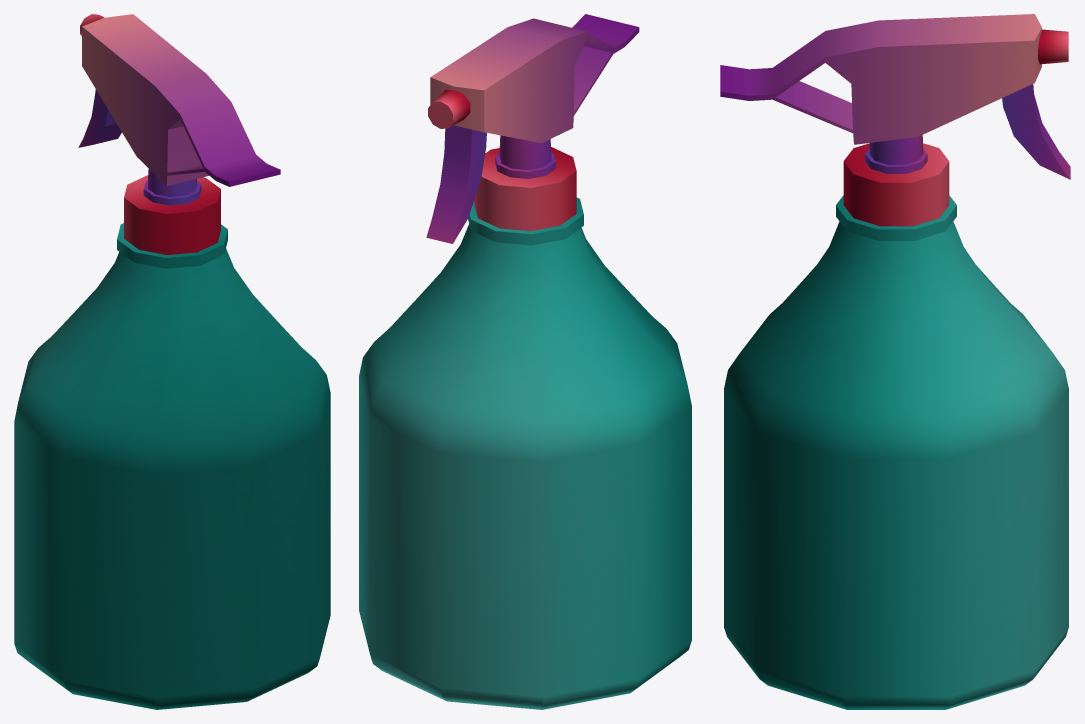
File: Spray_Bottle_Anims.fbx
3 renders of one model, left to right at view 1: azimuth 30°, elevation 25°; view 2: azimuth 150°, elevation 25°; view 3: azimuth 270°, elevation 25°, orthographic. The views are drawn at different scales.
Parts seen in each view (by area): view 1: Water_Bottle_Complete; view 2: Water_Bottle_Complete; view 3: Water_Bottle_Complete.
Part boxes in pixels (left/top/right/bottom): Water_Bottle_Complete: left=14, top=14, right=330, bottom=709; Water_Bottle_Complete: left=359, top=14, right=691, bottom=709; Water_Bottle_Complete: left=720, top=14, right=1070, bottom=709.
Size of the model in its own units: 15.19 by 31.61 by 16.23.
1 material, 1 textured.
